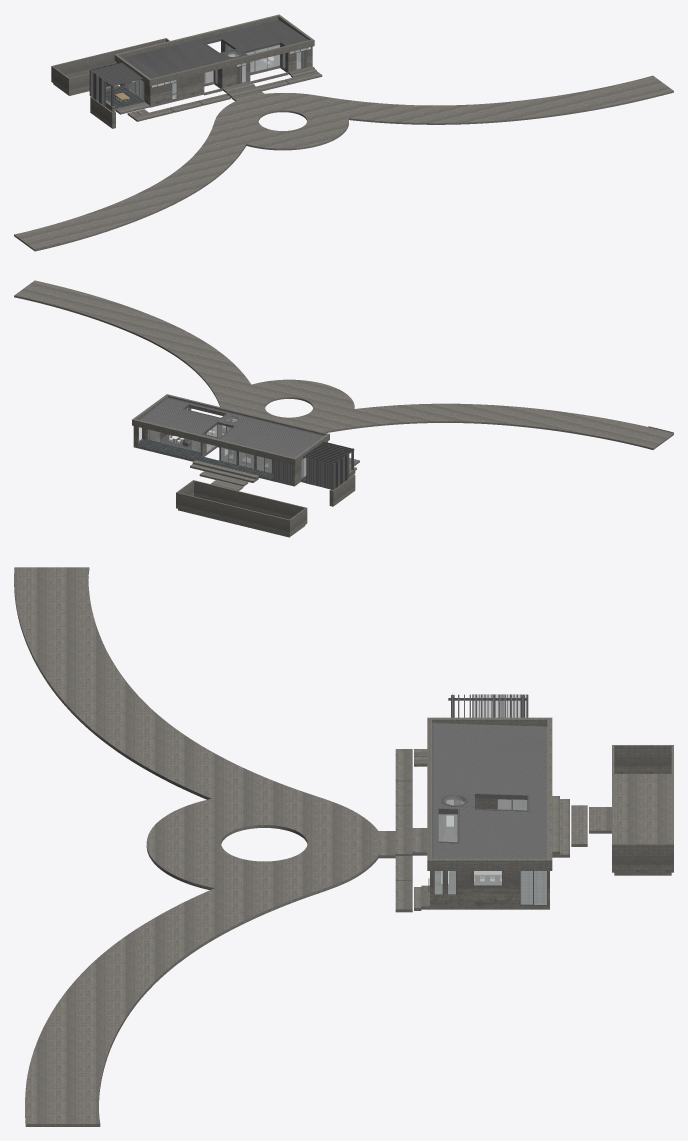
File: maison.glb
The picture shows the model from 3 angles, top to bottom: view 1: azimuth 30°, elevation 25°; view 2: azimuth 150°, elevation 25°; view 3: azimuth 270°, elevation 25°; orthographic projection. The views are drawn at different scales.
Parts seen in each view (by area): view 1: Int_Paint | White_0, C00_Powder Coat | Matt Black_0, Lamp - 003_Glass_0, Slab - 002_Tiling | 600x600_0; view 2: Int_Paint | White_0, C00_Powder Coat | Matt Black_0, Lamp - 003_Glass_0, Slab - 002_Tiling | 600x600_0, Slab - 003_Textile_0; view 3: Int_Paint | White_0, C00_Powder Coat | Matt Black_0, Lamp - 003_Glass_0, Slab - 002_Tiling | 600x600_0.
Part boxes in pixels (x1,y1,x2,y2): Int_Paint | White_0: (14, 14, 673, 251); C00_Powder Coat | Matt Black_0: (89, 19, 311, 106); Lamp - 003_Glass_0: (124, 44, 310, 99); Slab - 002_Tiling | 600x600_0: (106, 46, 273, 108); Int_Paint | White_0: (14, 280, 673, 537); C00_Powder Coat | Matt Black_0: (139, 397, 354, 489); Lamp - 003_Glass_0: (139, 408, 306, 477); Slab - 002_Tiling | 600x600_0: (138, 439, 349, 480); Slab - 003_Textile_0: (156, 432, 305, 475); Int_Paint | White_0: (14, 567, 673, 1126); C00_Powder Coat | Matt Black_0: (428, 694, 547, 905); Lamp - 003_Glass_0: (434, 796, 546, 904); Slab - 002_Tiling | 600x600_0: (521, 871, 546, 903).
Size of the model in its own units: 92.87 by 6.56 by 46.56.
19 materials, 12 textured.
